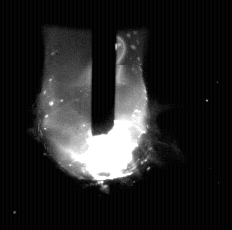arame: (92, 0, 116, 137)
poca: (41, 0, 150, 230)
